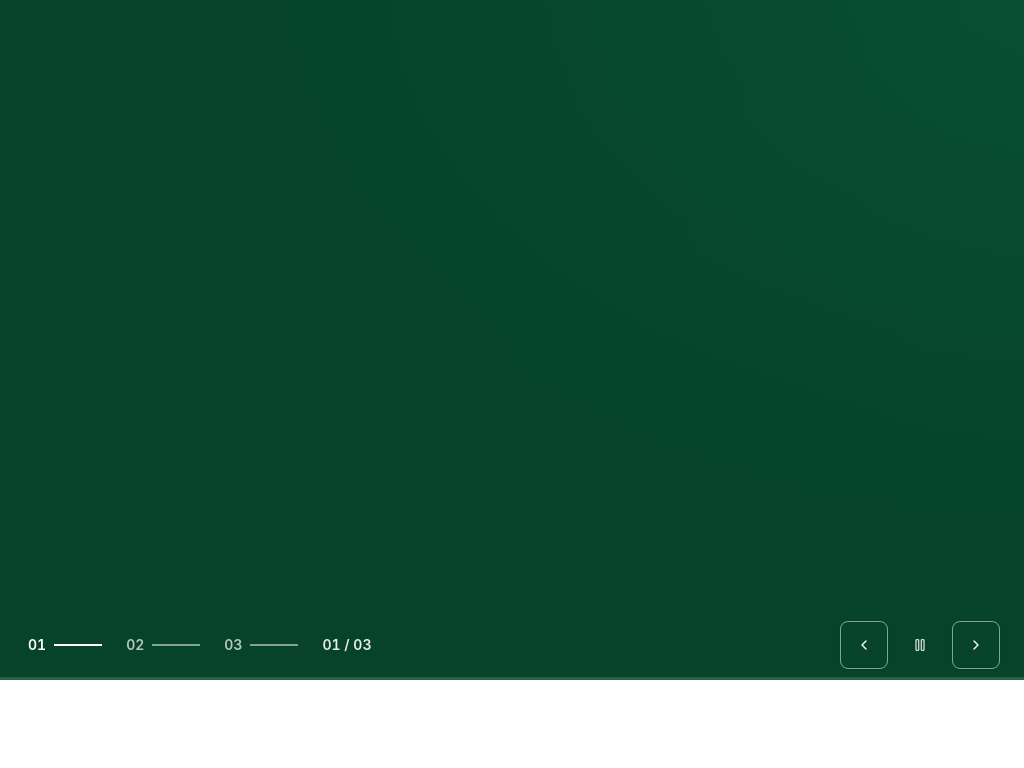
Scenario: campaign carousel › navigates with the numbered slide indicators and marks the current one
The width and height of the screenshot is (1024, 768).
Click the button named "Go to slide 3" at (261, 645), box [220,621,302,669]
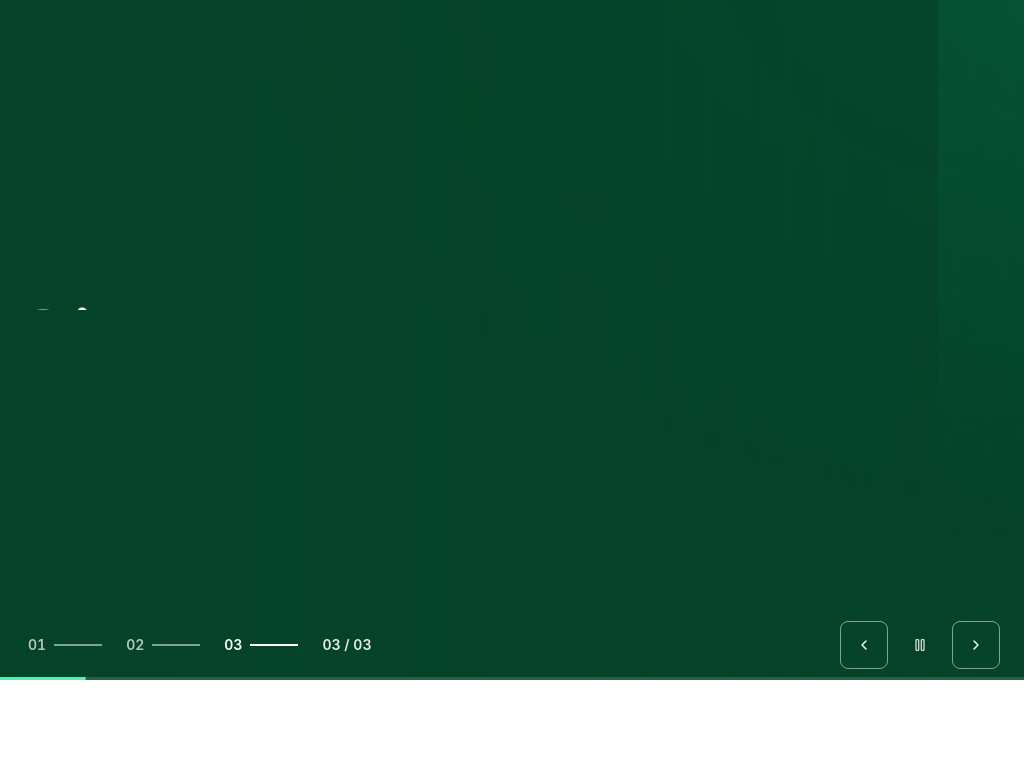
Now the heading "Slide three" is shown, box [24,297,307,372]
